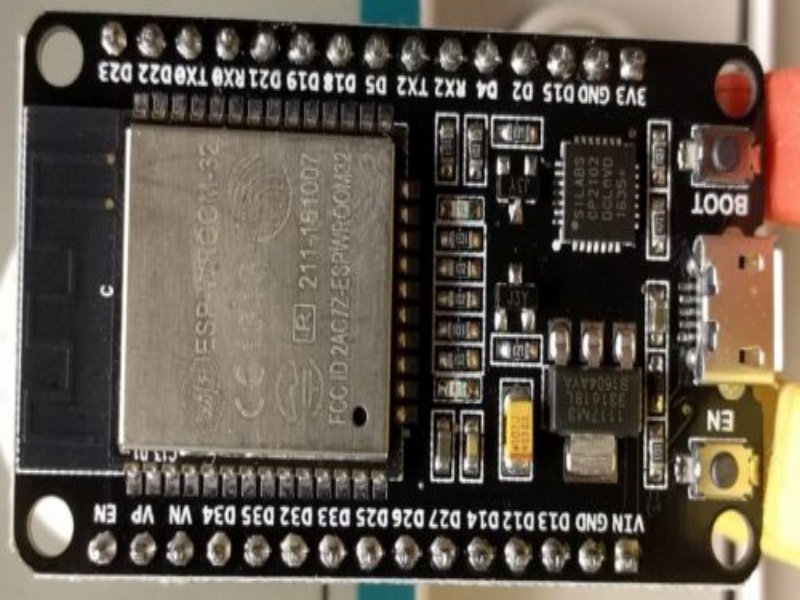esp32: (11, 9, 766, 586)
